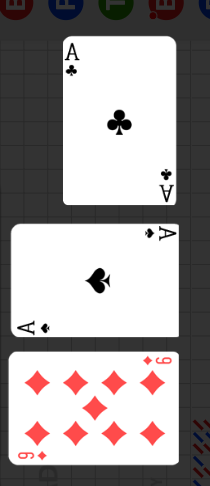9D: (17, 450, 49, 461)
AC: (156, 165, 174, 202), (65, 41, 82, 79)
